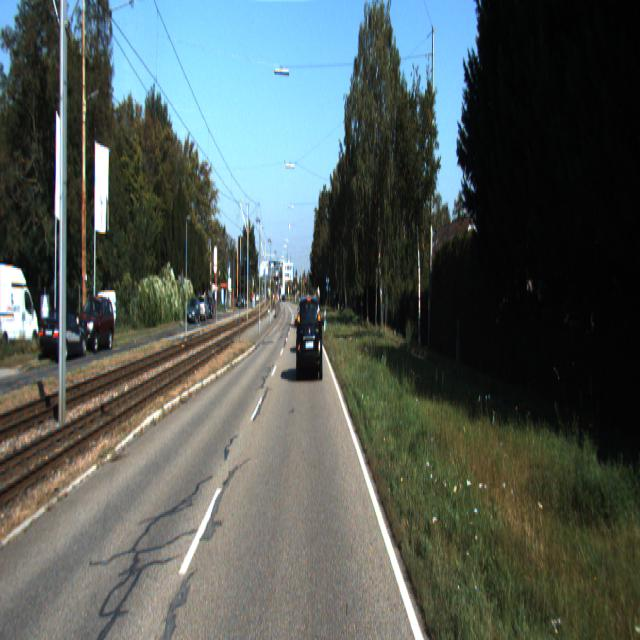Car: (0, 264, 42, 361), (39, 306, 89, 364), (296, 294, 324, 381), (76, 297, 115, 353), (91, 284, 120, 334), (187, 296, 201, 325), (197, 292, 212, 319)
